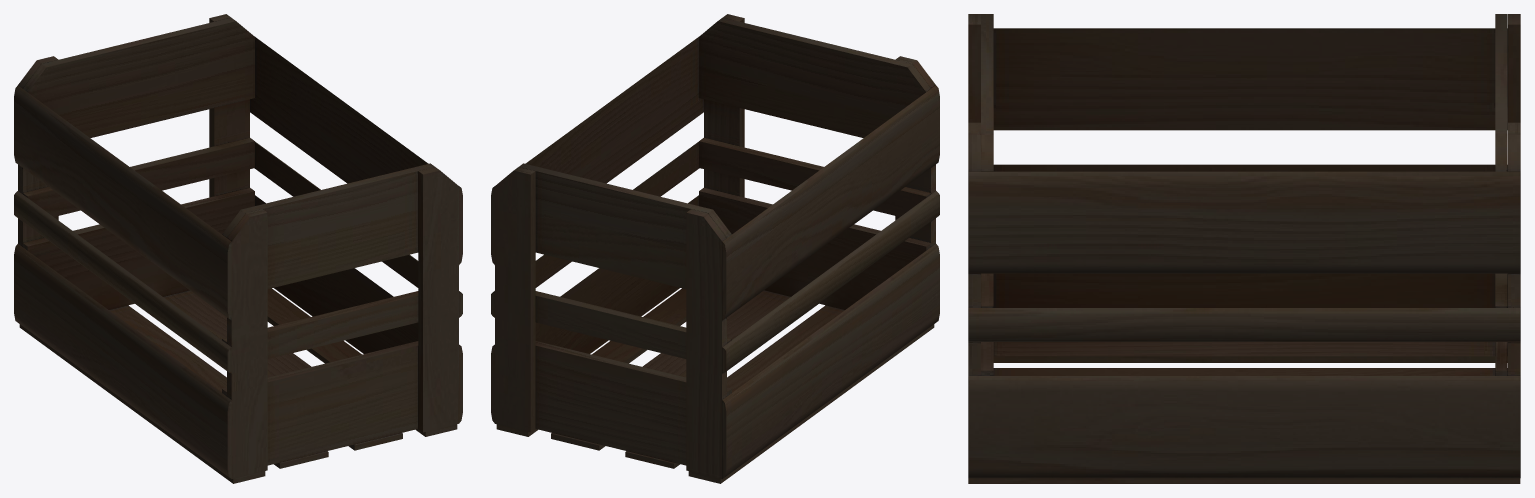
Rendered from objh.glb.
3 renders of one model, left to right at view 1: azimuth 30°, elevation 25°; view 2: azimuth 150°, elevation 25°; view 3: azimuth 270°, elevation 25°, orthographic. The views are drawn at different scales.
Visible parts, largest first — view 1: wooden_crate; view 2: wooden_crate; view 3: wooden_crate.
Part boxes in pixels (box(x1,y1,x2,y2)): wooden_crate: box(14, 14, 462, 483); wooden_crate: box(491, 14, 939, 483); wooden_crate: box(968, 14, 1520, 483).
Bounding box in the file's own units: 0.2795 × 0.2989 × 0.4404.
Materials: 1 (1 with a texture image).
